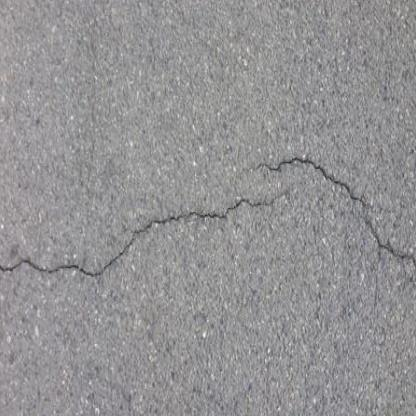Cracks: (0, 188, 292, 282), (241, 154, 373, 212), (360, 216, 416, 302)
